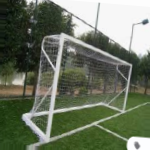goals: (23, 32, 133, 140)
